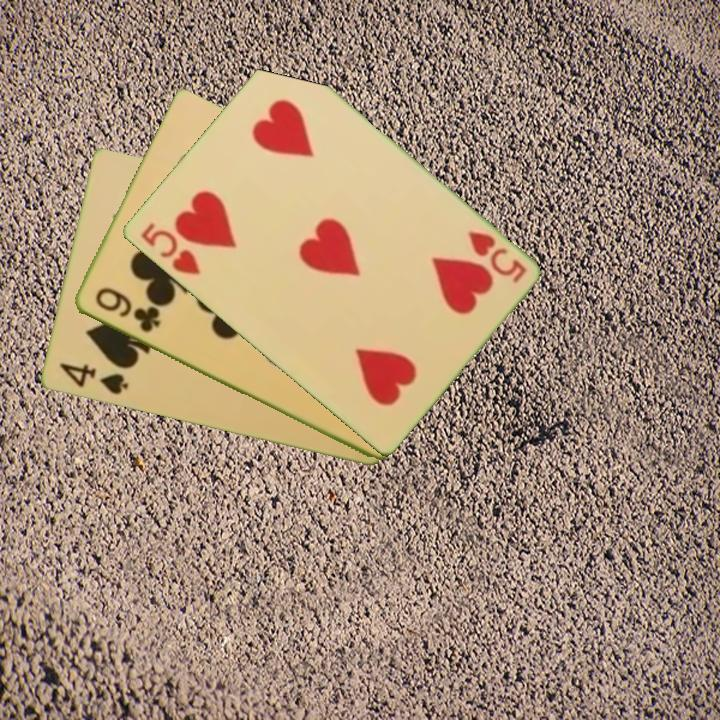4s: (56, 359, 131, 398)
5h: (136, 219, 203, 279), (464, 227, 530, 286)
9c: (91, 284, 164, 336)
